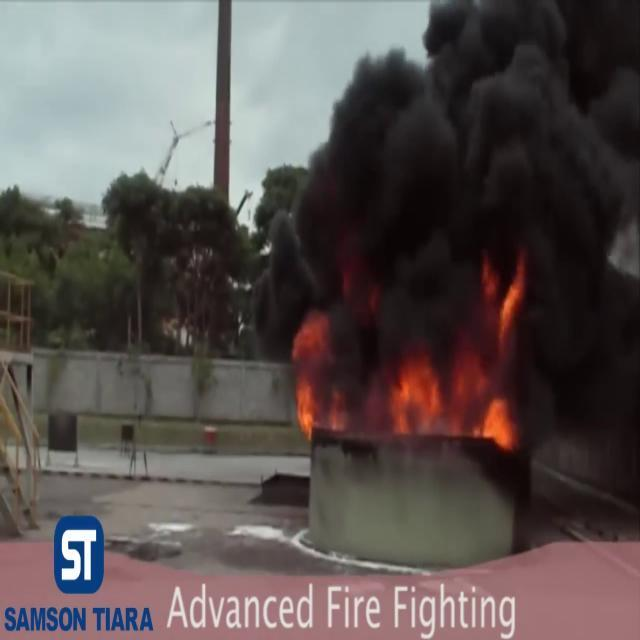Fire: (384, 322, 528, 451), (288, 308, 334, 446)
Smoke: (252, 0, 640, 373)
